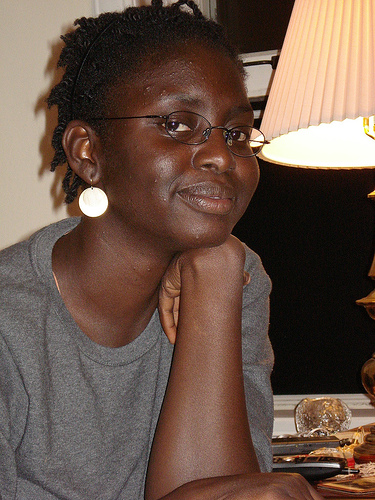without_mask: (64, 40, 264, 261)
